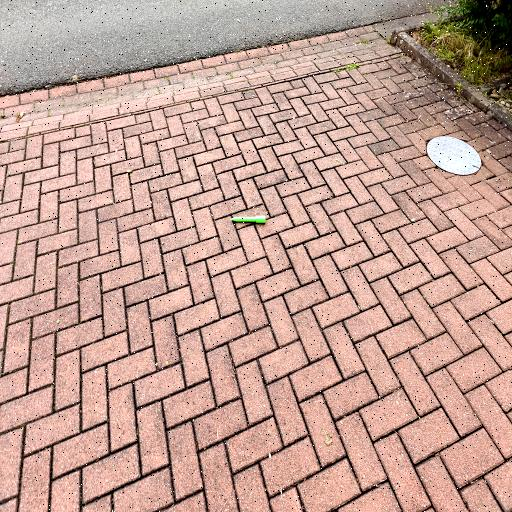Probe-Detection: (231, 216, 266, 224)
